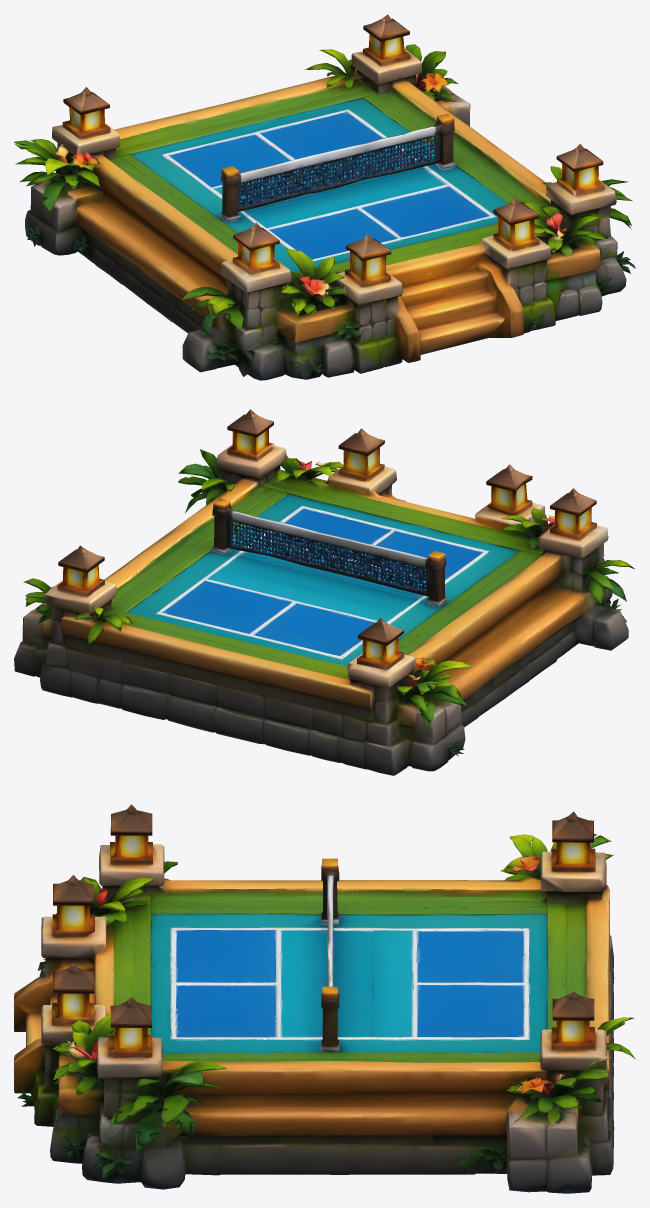
File: pickleball 3d.glb
3 views of the same model, one above another, from view 1: azimuth 30°, elevation 25°; view 2: azimuth 150°, elevation 25°; view 3: azimuth 270°, elevation 25° (orthographic). The views are drawn at different scales.
Parts seen in each view (by area): view 1: tripo_node_d07d27cc-636f-4bed-9bd7-b5b12ba90411; view 2: tripo_node_d07d27cc-636f-4bed-9bd7-b5b12ba90411; view 3: tripo_node_d07d27cc-636f-4bed-9bd7-b5b12ba90411.
Part boxes in pixels (left/top/right/bottom): tripo_node_d07d27cc-636f-4bed-9bd7-b5b12ba90411: left=14, top=14, right=635, bottom=380; tripo_node_d07d27cc-636f-4bed-9bd7-b5b12ba90411: left=14, top=409, right=635, bottom=775; tripo_node_d07d27cc-636f-4bed-9bd7-b5b12ba90411: left=14, top=804, right=635, bottom=1193.
Size of the model in its own units: 0.981 by 0.302 by 0.9789.
1 material, 1 textured.
